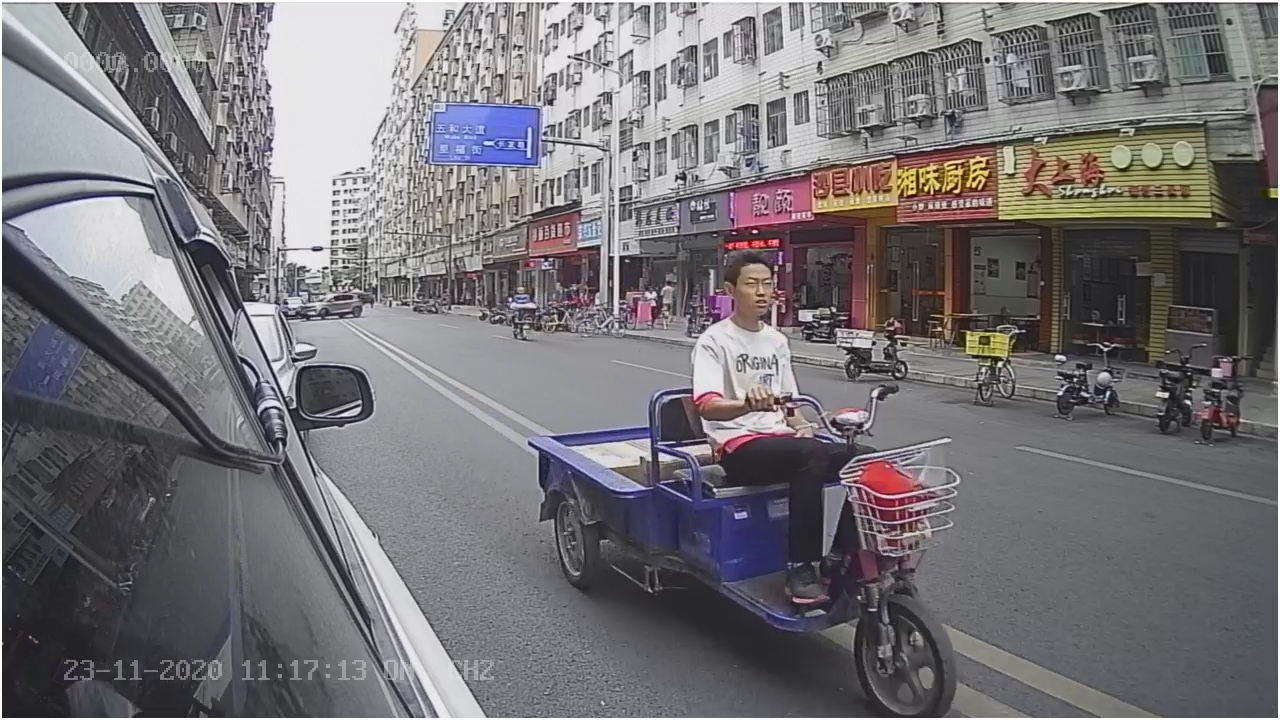person: (684, 254, 804, 391)
